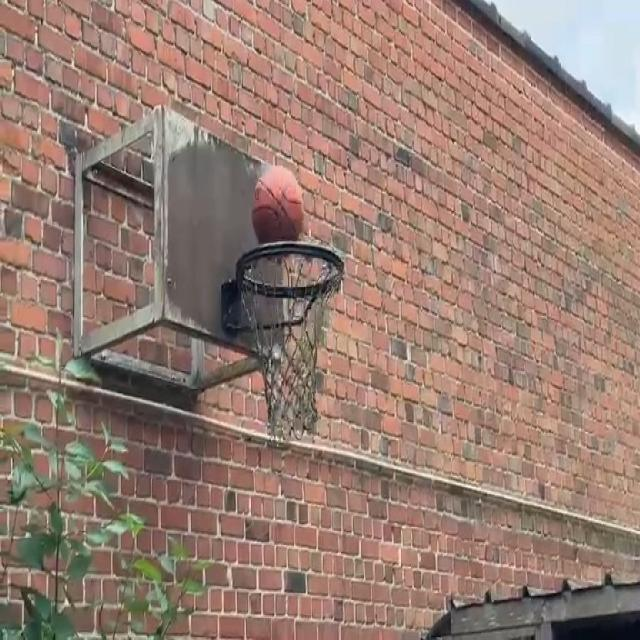rebound_hit: (253, 168, 303, 253)
